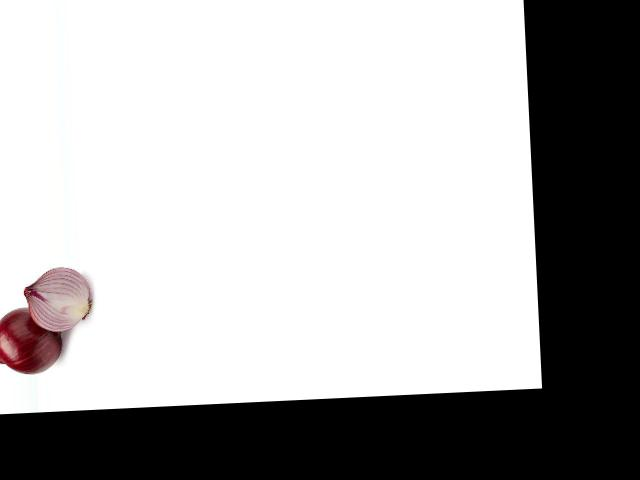onion: (21, 268, 91, 328)
